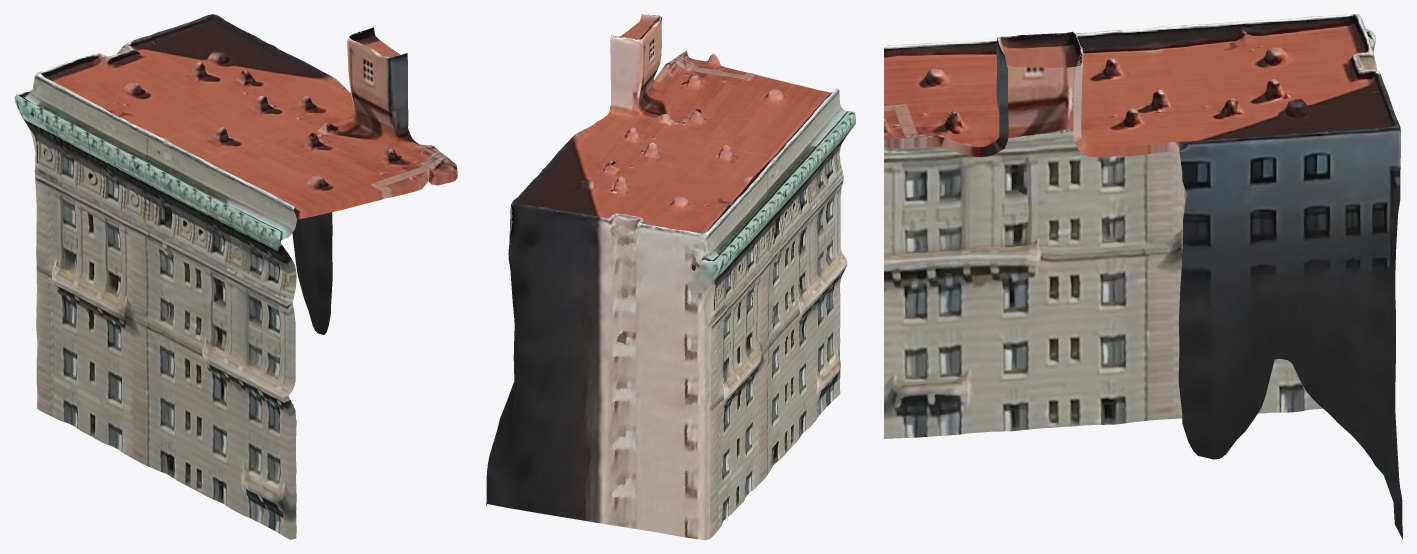
Rendered from z20-167746-405250-h1-yup-uvflip-v3-world.glb.
3 renders of one model, left to right at view 1: azimuth 30°, elevation 25°; view 2: azimuth 150°, elevation 25°; view 3: azimuth 270°, elevation 25°, orthographic. The views are drawn at different scales.
Bounding box in the file's own units: 19.16 × 31.68 × 30.28.
Materials: 1 (1 with a texture image).
